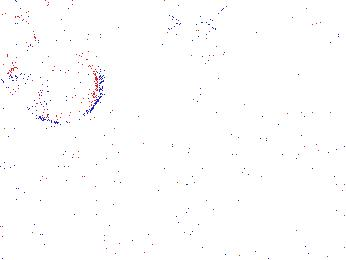moon jellyfish: (260, 113, 341, 199), (17, 46, 100, 123), (28, 18, 128, 74), (153, 22, 231, 67), (1, 16, 38, 79)
